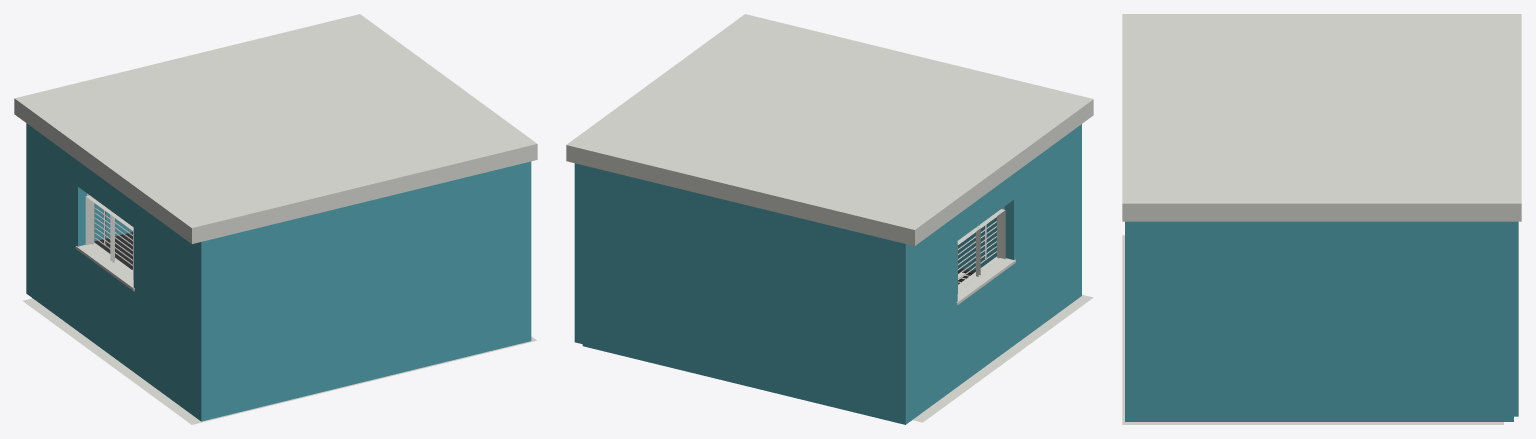
File: workspace.glb
3 views of the same model, side by side, from view 1: azimuth 30°, elevation 25°; view 2: azimuth 150°, elevation 25°; view 3: azimuth 270°, elevation 25° (orthographic). The views are drawn at different scales.
Parts seen in each view (by area): view 1: walls, ceiling, floor, window, desk, blinds; view 2: walls, ceiling, window, floor, blinds; view 3: ceiling, walls, floor.
Part boxes in pixels (left/top/right/bottom): walls: left=26, top=123, right=531, bottom=421; ceiling: left=14, top=14, right=537, bottom=243; floor: left=22, top=298, right=536, bottom=424; window: left=75, top=193, right=134, bottom=291; desk: left=94, top=232, right=132, bottom=265; blinds: left=94, top=203, right=132, bottom=265; walls: left=574, top=124, right=1081, bottom=424; ceiling: left=566, top=14, right=1093, bottom=245; window: left=956, top=207, right=1015, bottom=305; floor: left=912, top=294, right=1093, bottom=422; blinds: left=958, top=216, right=996, bottom=279; ceiling: left=1122, top=14, right=1521, bottom=221; walls: left=1125, top=221, right=1518, bottom=421; floor: left=1122, top=235, right=1503, bottom=424.
Bounding box in the file's own units: 7.9 × 4.33 × 7.03.
